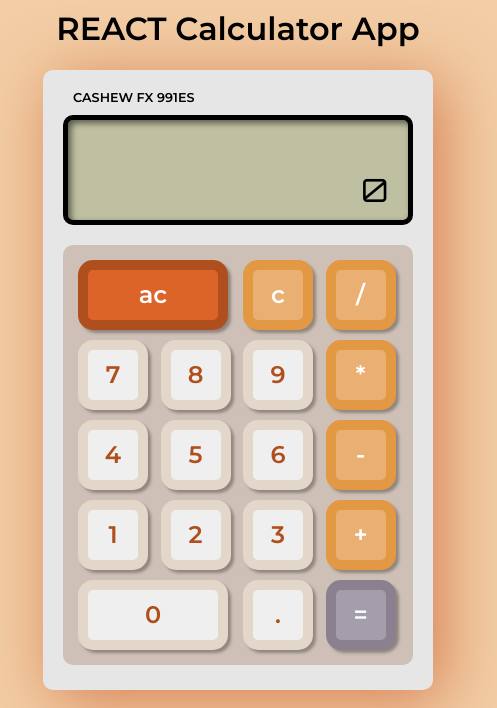
Test: check if subtraction is working
Click the button "2" at (196, 535), box [160,500,230,570]
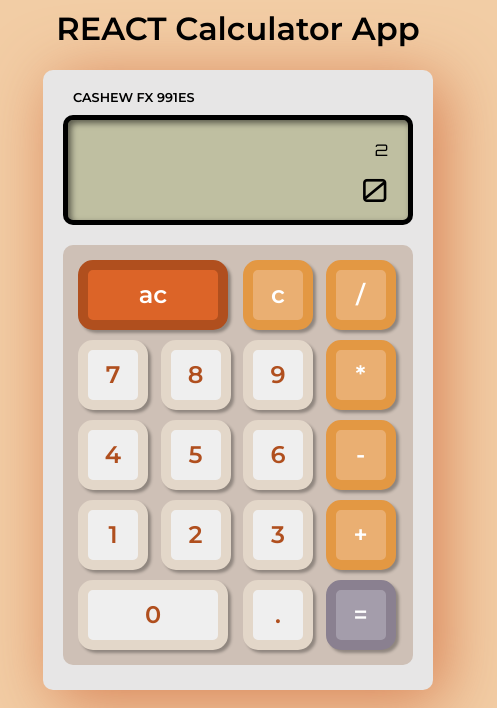
Click the button "-" at (360, 455), box [326,420,396,490]
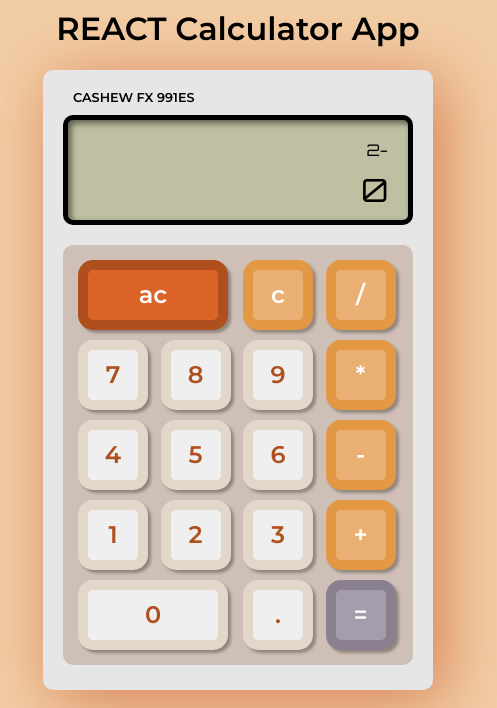
Click the button "3" at (278, 535), box [243,500,313,570]
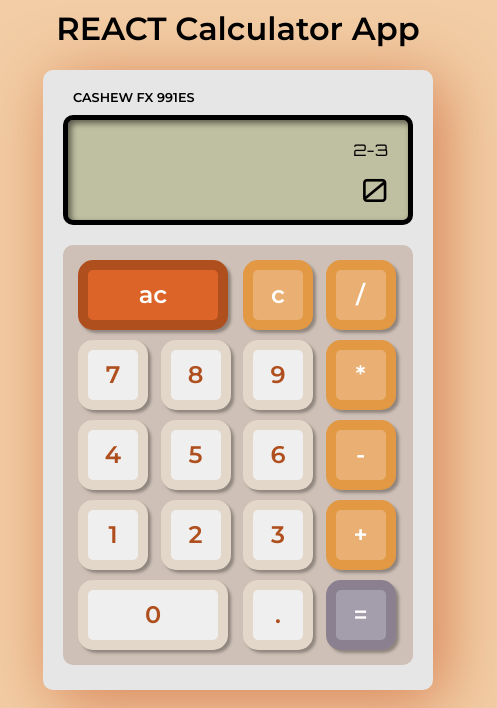
Click the button "=" at (360, 615), box [326,580,396,650]
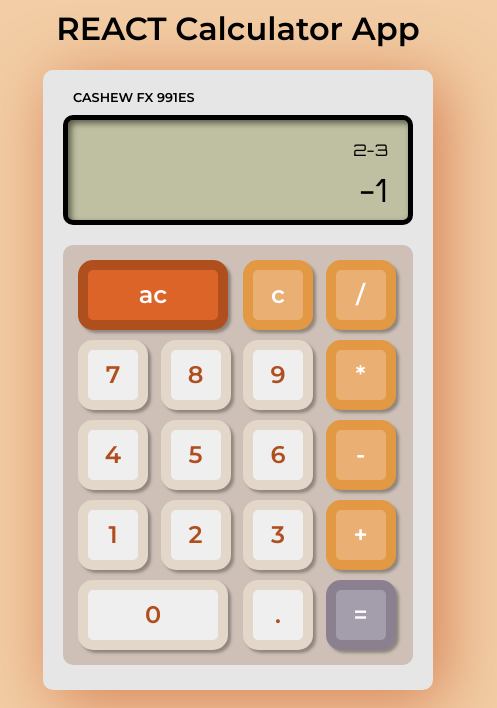
Now the text titled "result" reads "-1", box [359,170,388,210]
